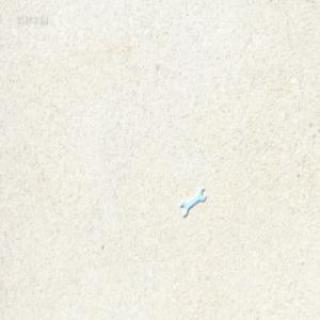Wrenchtrack_idkeyframe: (178, 184, 204, 215)
